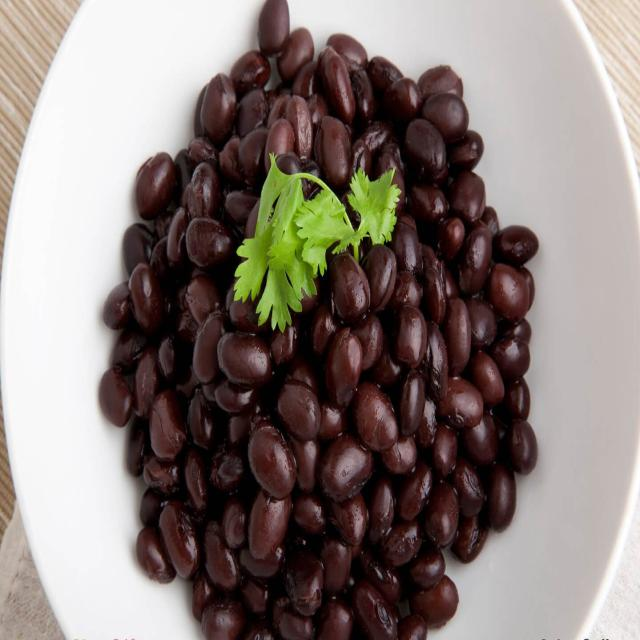frijoles: (76, 5, 569, 634)
